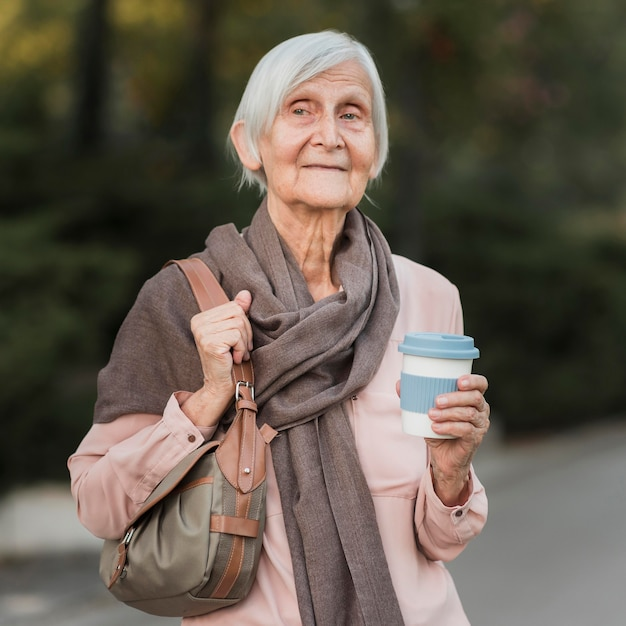young: (218, 39, 394, 219)
